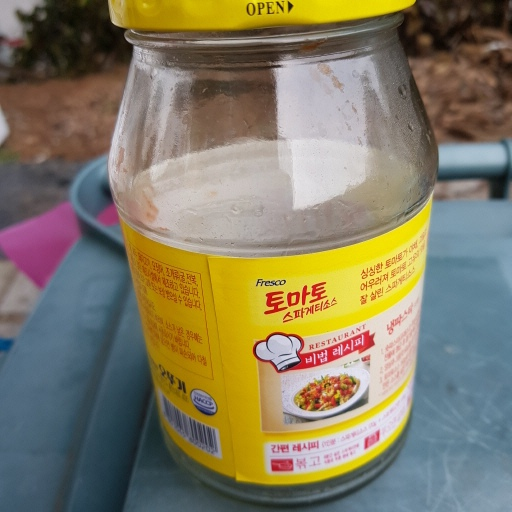Glass_5: (98, 2, 439, 498)
